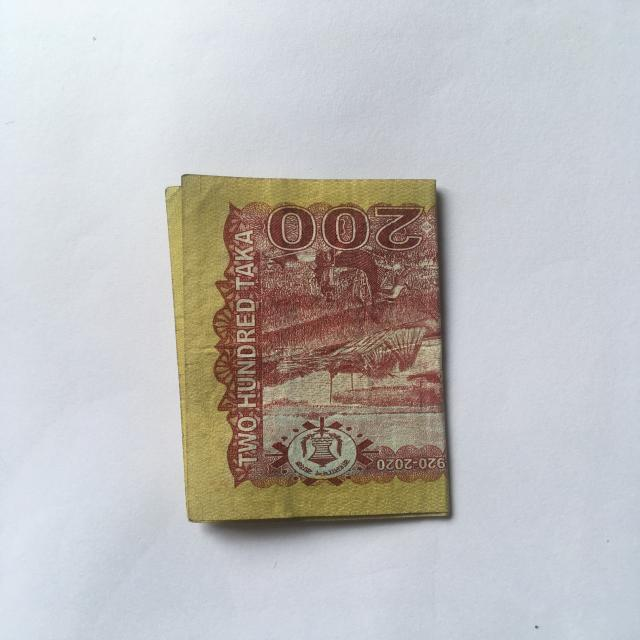Taka: (162, 168, 458, 527)
